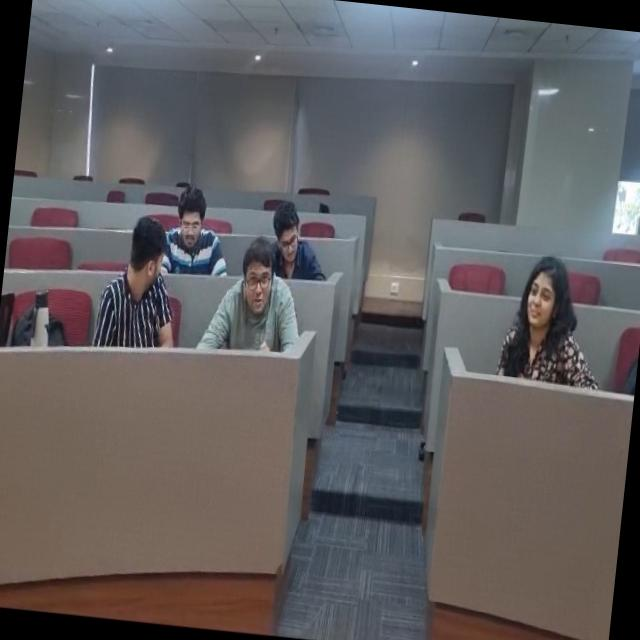cheating: (490, 237, 602, 383), (196, 238, 306, 362), (93, 228, 190, 358)
non-cheating: (255, 205, 338, 282), (158, 184, 224, 272)
